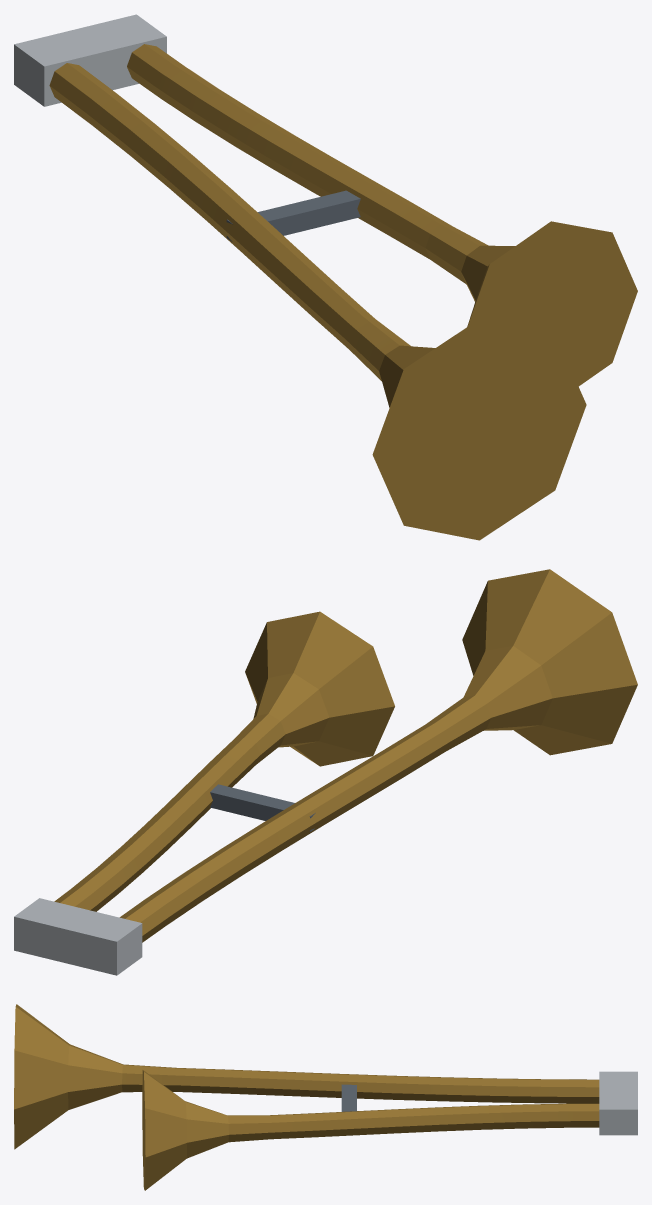
The model's file is chindinkalu-horn.glb.
3 views of the same model, one above another, from view 1: azimuth 30°, elevation 25°; view 2: azimuth 150°, elevation 25°; view 3: azimuth 270°, elevation 25° (orthographic). The views are drawn at different scales.
Visible parts, largest first — view 1: m; view 2: m; view 3: m.
Boxes of the visible parts, box(x1,y1,x2,y2) form: m: box(14, 14, 637, 540); m: box(14, 569, 637, 975); m: box(14, 1004, 637, 1190).
Bounding box in the file's own units: 0.198 × 0.1143 × 0.46.
